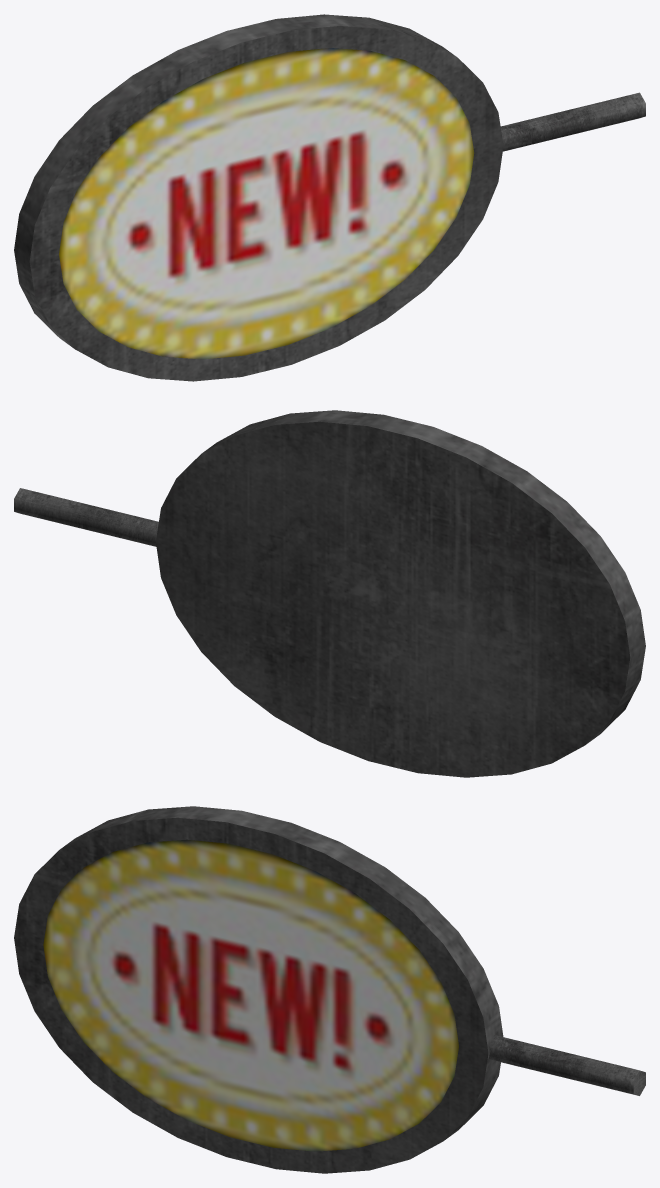
The model's file is sign board27.FBX.
The picture shows the model from 3 angles, top to bottom: view 1: azimuth 30°, elevation 25°; view 2: azimuth 150°, elevation 25°; view 3: azimuth 330°, elevation 25°; orthographic projection.
Visible parts, largest first — view 1: sign board27; view 2: sign board27; view 3: sign board27.
Boxes of the visible parts, x1,y1,x2,y2 form: sign board27: (14,14,645,381); sign board27: (14,410,645,777); sign board27: (14,806,645,1173).
Bounding box in the file's own units: 20.1 × 10.4 × 0.882.
